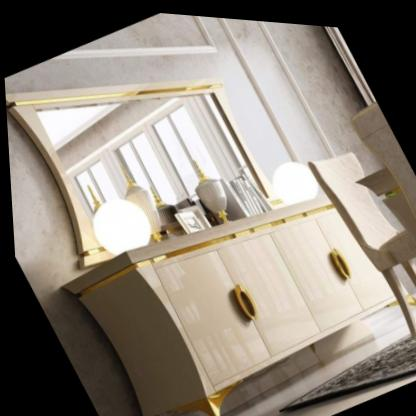Ceramic floor: (223, 366, 416, 416)
Sideboard: (65, 186, 403, 416)
